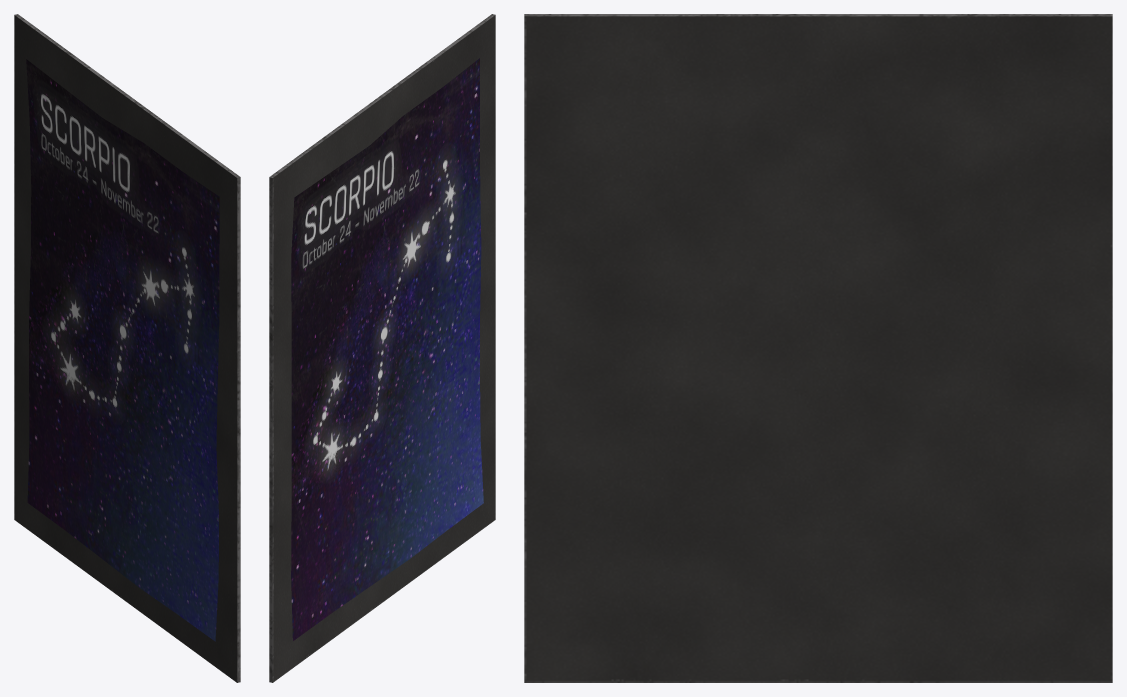
File: SM_Wall_Constellations_01e.fbx
The picture shows the model from 3 angles, left to right: view 1: azimuth 30°, elevation 25°; view 2: azimuth 150°, elevation 25°; view 3: azimuth 270°, elevation 25°; orthographic projection. The views are drawn at different scales.
Visible parts, largest first — view 1: SM_Wall_Constellations_01e_LOD0; view 2: SM_Wall_Constellations_01e_LOD0; view 3: SM_Wall_Constellations_01e_LOD0.
Part boxes in pixels (bbox=[...]): SM_Wall_Constellations_01e_LOD0: bbox=[14, 14, 240, 682]; SM_Wall_Constellations_01e_LOD0: bbox=[269, 14, 495, 682]; SM_Wall_Constellations_01e_LOD0: bbox=[524, 14, 1112, 682].
Bounding box in the file's own units: 1.06 × 40 × 50.
Materials: 1 (1 with a texture image).
